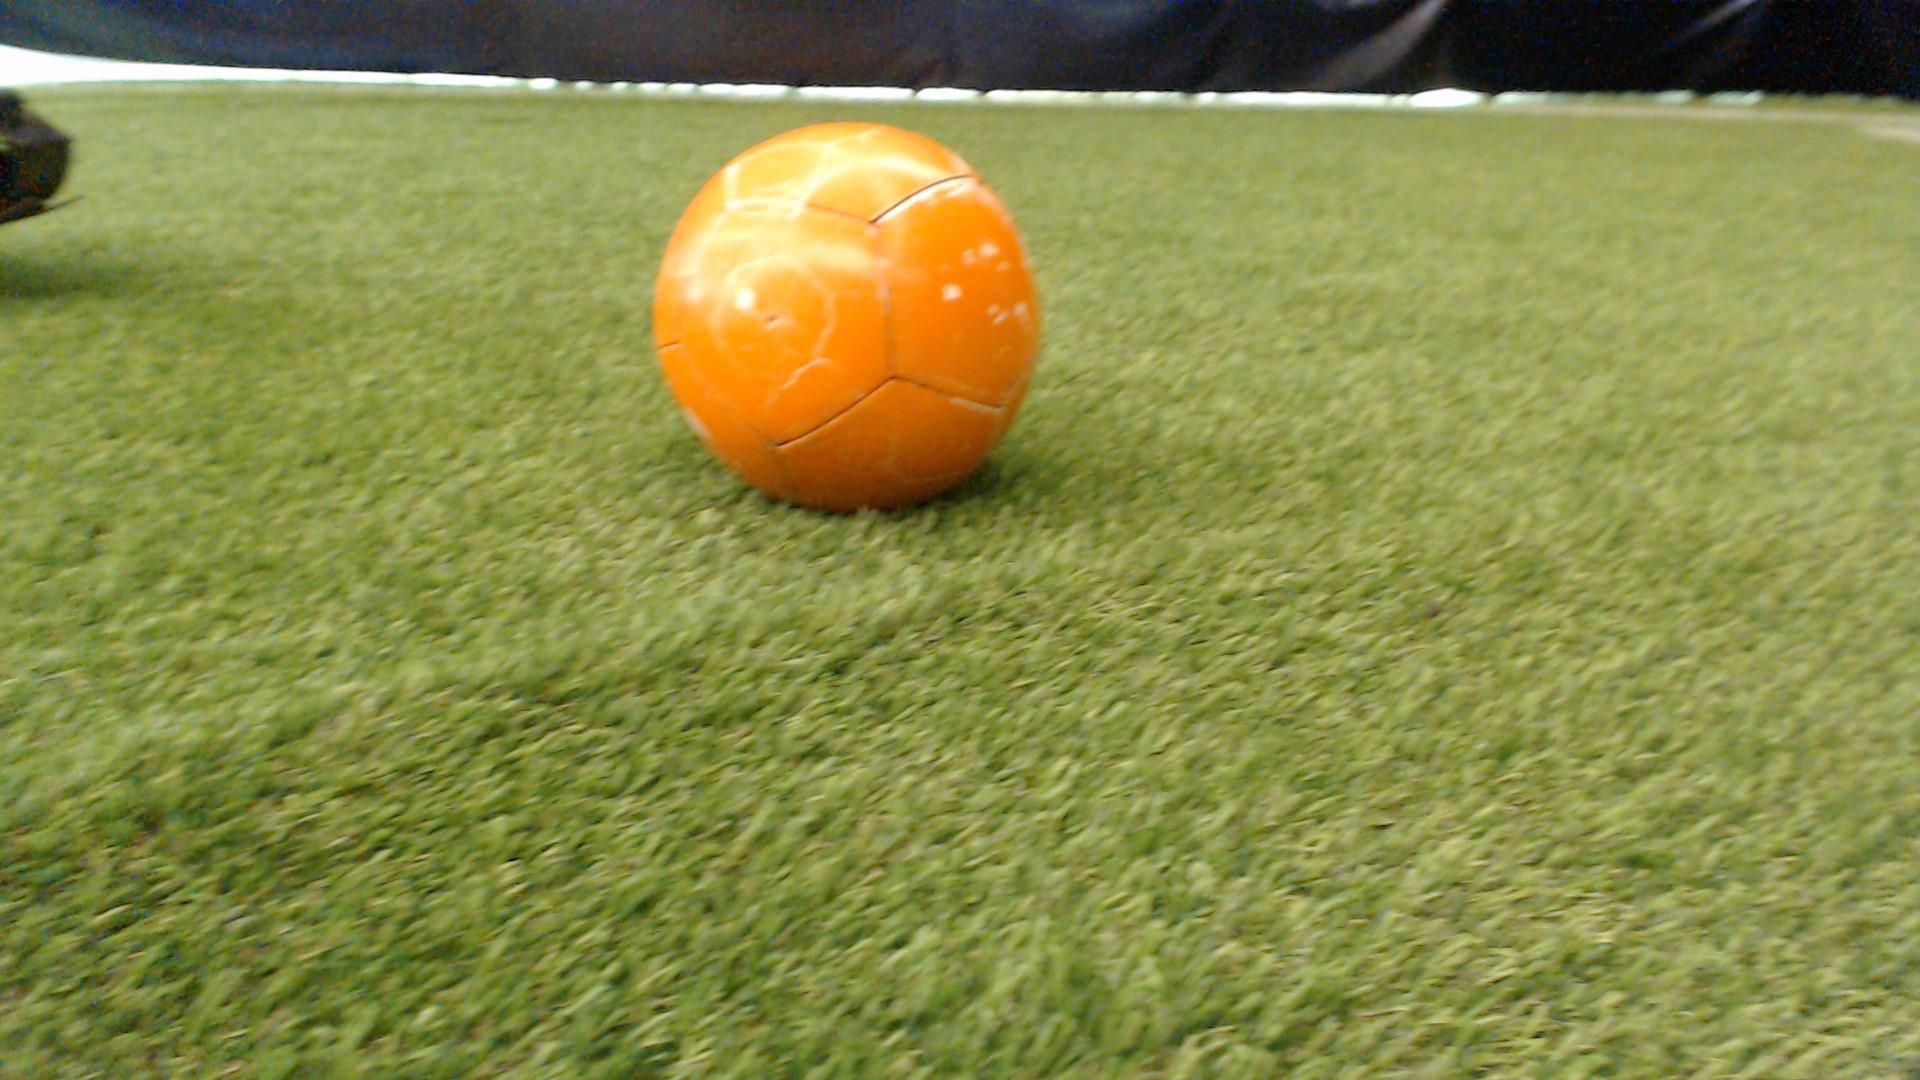bola: (632, 83, 1095, 562)
